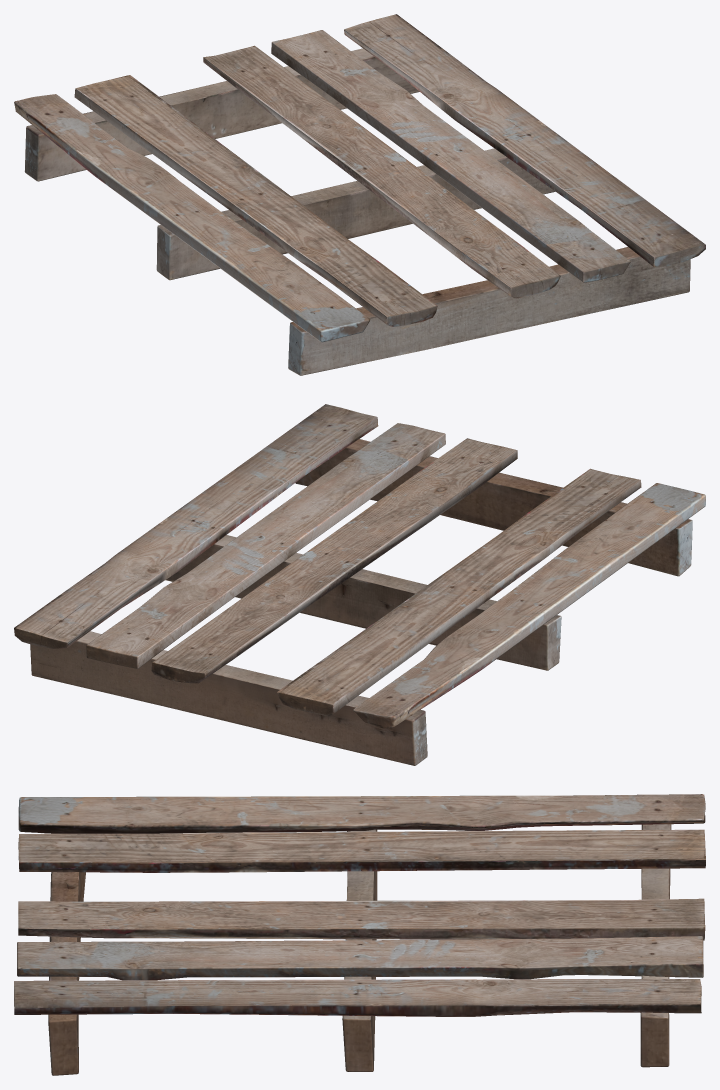
File: sm_WoodPallet_01_13.fbx
The picture shows the model from 3 angles, top to bottom: view 1: azimuth 30°, elevation 25°; view 2: azimuth 150°, elevation 25°; view 3: azimuth 270°, elevation 25°; orthographic projection. The views are drawn at different scales.
Parts seen in each view (by area): view 1: sm_WoodPallet_01_13_LOD0; view 2: sm_WoodPallet_01_13_LOD0; view 3: sm_WoodPallet_01_13_LOD0.
Boxes of the visible parts, <box> form: sm_WoodPallet_01_13_LOD0: <box>14,14,705,375</box>; sm_WoodPallet_01_13_LOD0: <box>14,404,705,765</box>; sm_WoodPallet_01_13_LOD0: <box>14,794,705,1075</box>.
Bounding box in the file's own units: 120 × 86.15 × 14.68.
